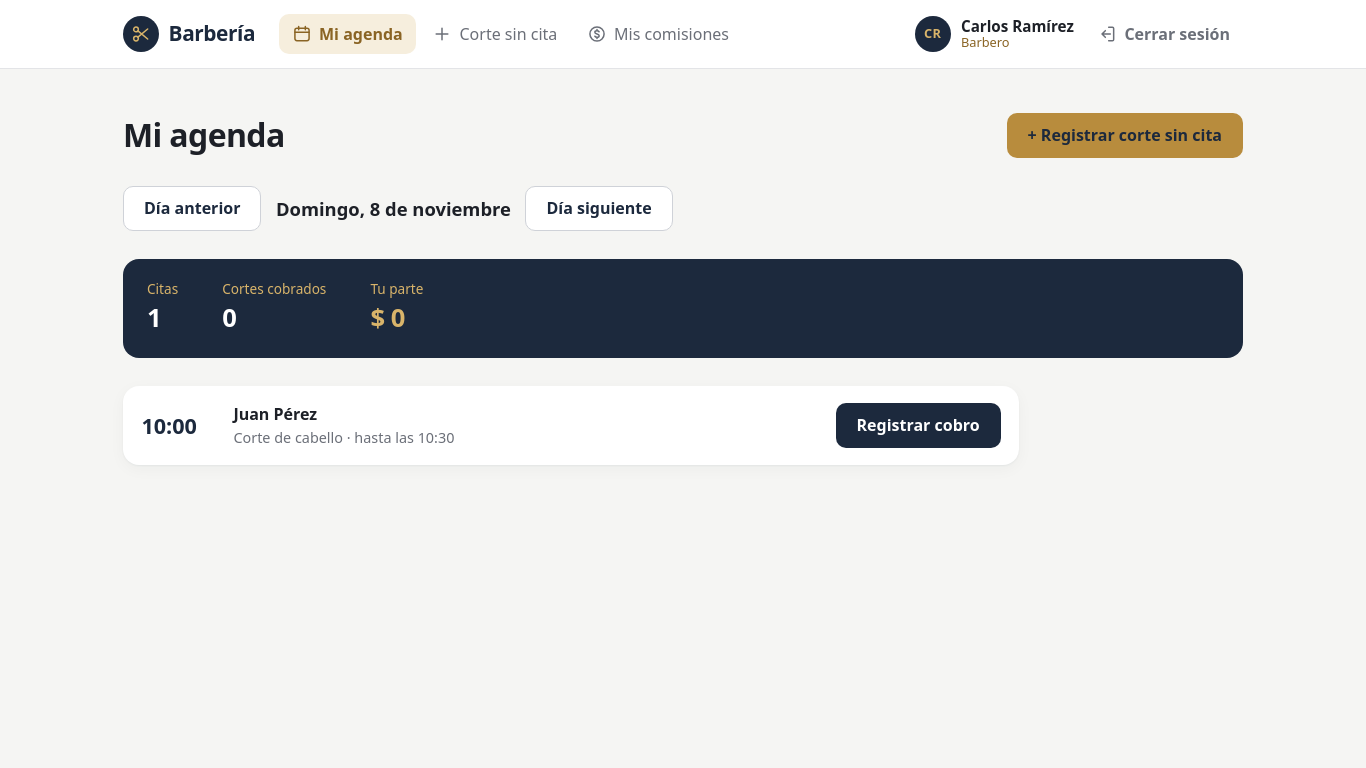
Scenario: agenda del barbero (HU-05, HU-12, HU-27) › valida el cobro antes de enviarlo
The width and height of the screenshot is (1366, 768).
Click the button "Registrar cobro". click: (918, 425)
box: x1=836 y1=403 x2=1001 y2=448
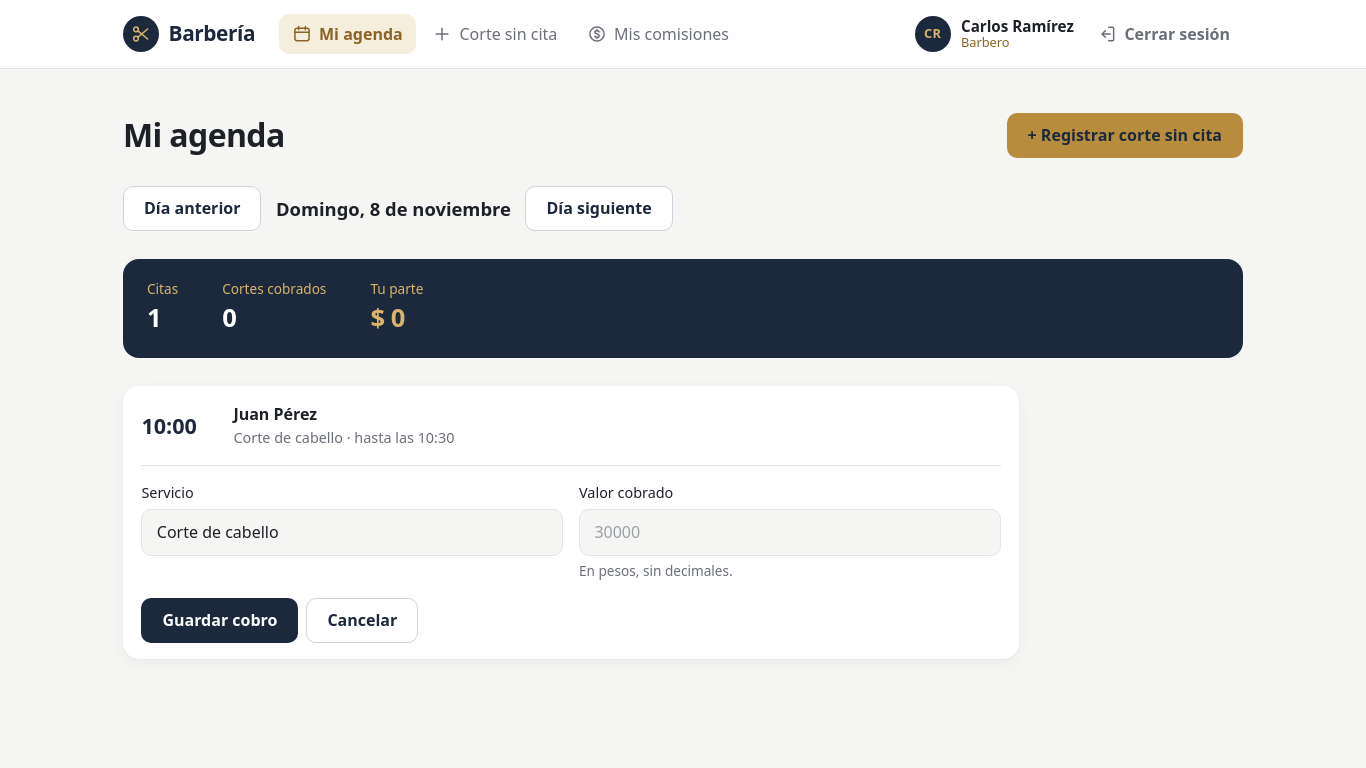
Clear the field labelled "Servicio". click: (352, 532)
box: x1=141 y1=509 x2=563 y2=556
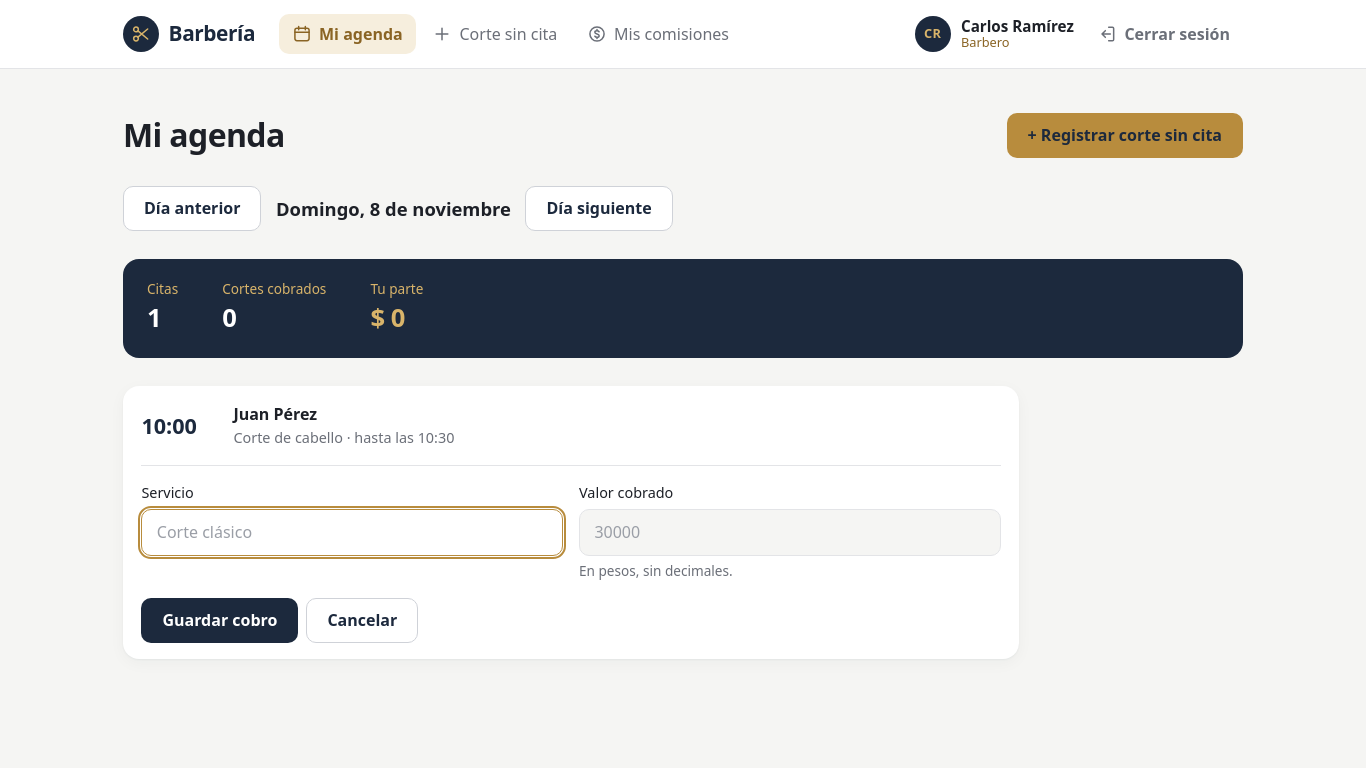
Click the button "Guardar cobro". click: (220, 620)
box: x1=141 y1=598 x2=298 y2=643
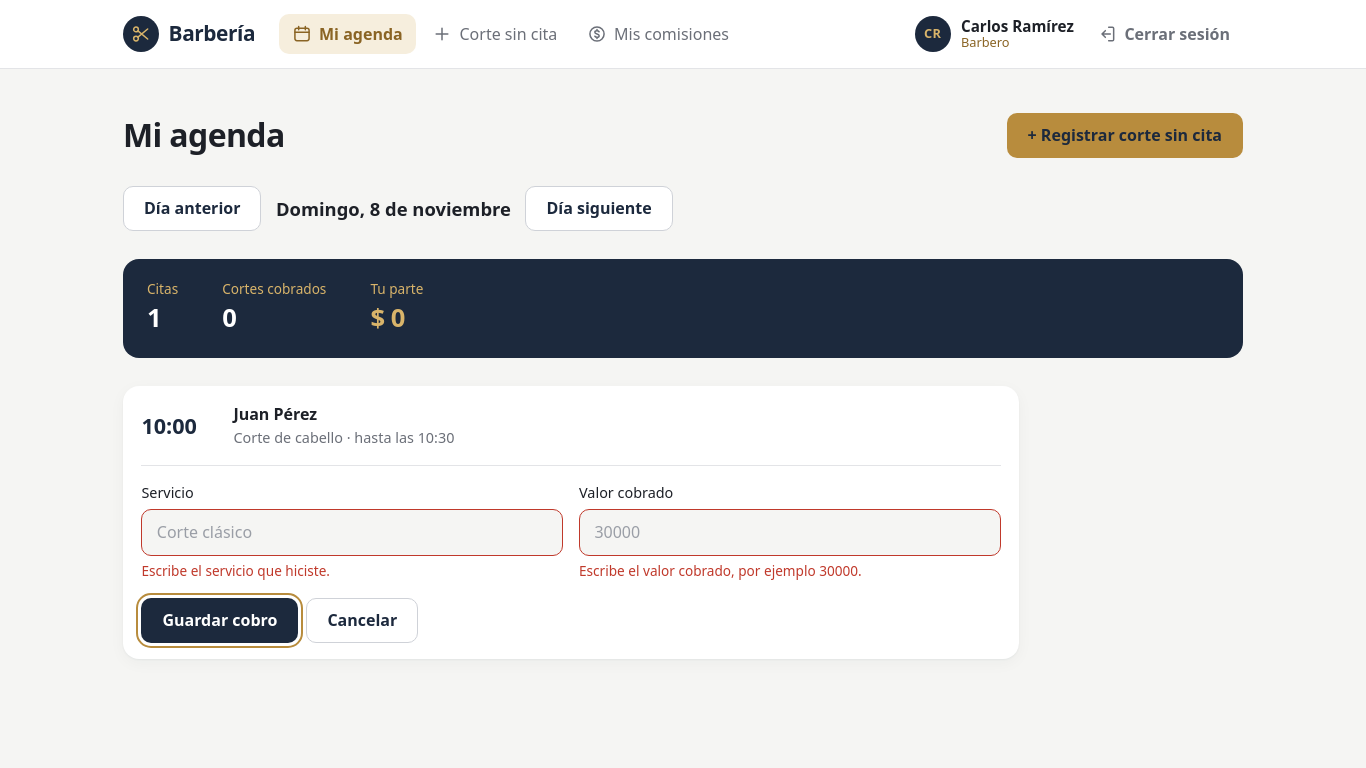
expect the text "Escribe el servicio que hiciste." is shown: met, box x1=141 y1=561 x2=330 y2=580
expect the text "Escribe el valor cobrado, por ejemplo 30000." is shown: met, box x1=579 y1=561 x2=862 y2=580
